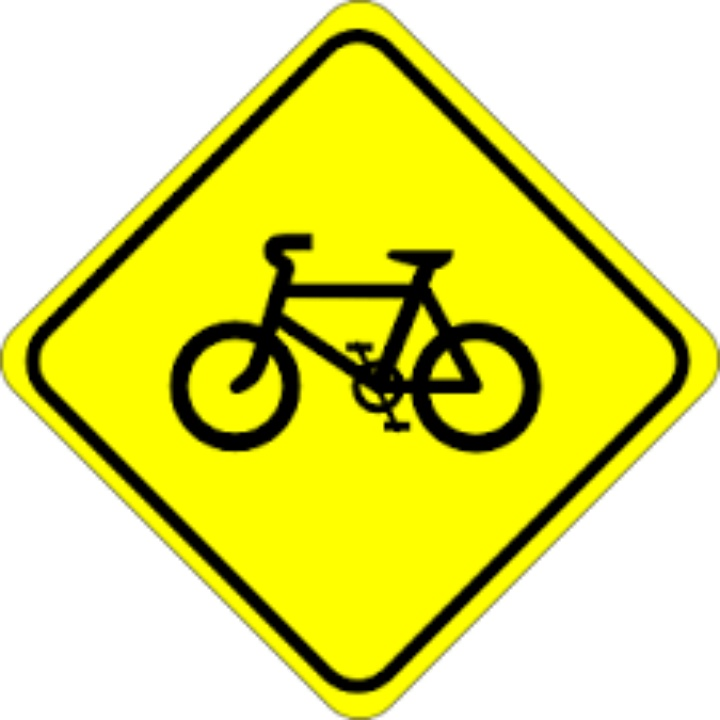bicycle: (161, 157, 543, 539)
